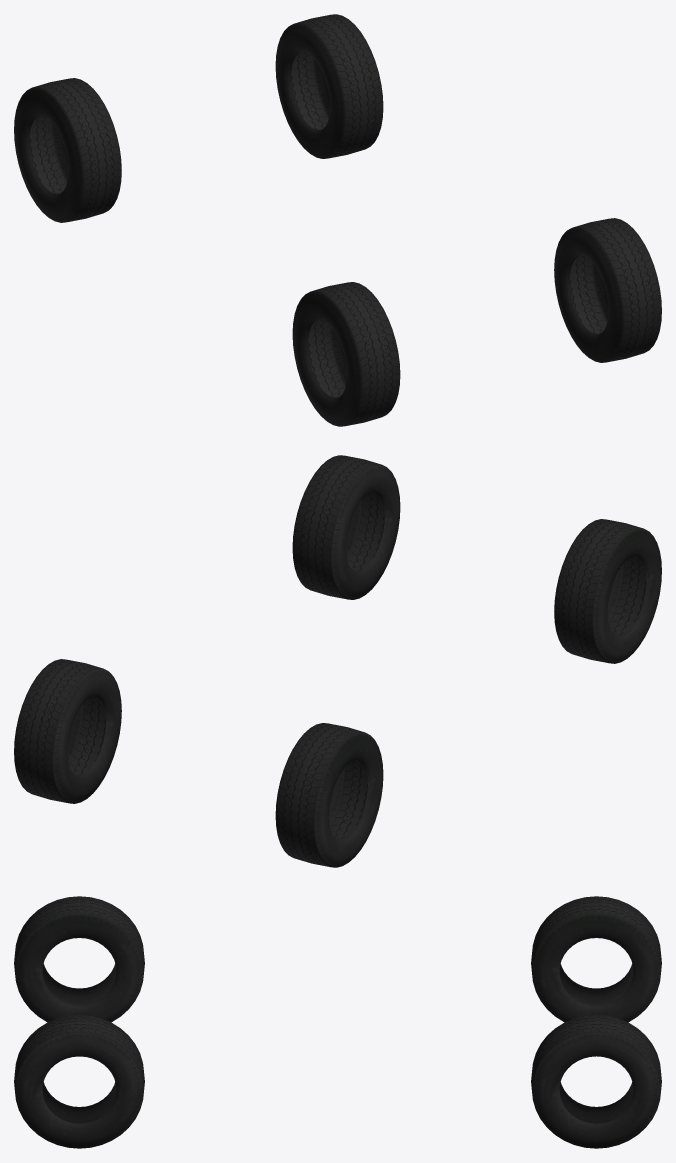
File: hummer-ev-2_Object_4.glb
The picture shows the model from 3 angles, top to bottom: view 1: azimuth 30°, elevation 25°; view 2: azimuth 150°, elevation 25°; view 3: azimuth 270°, elevation 25°; orthographic projection. The views are drawn at different scales.
Parts seen in each view (by area): view 1: Object_4; view 2: Object_4; view 3: Object_4.
Boxes of the visible parts, left/top/right/bottom form: Object_4: left=14, top=14, right=661, bottom=426; Object_4: left=14, top=455, right=661, bottom=867; Object_4: left=14, top=896, right=661, bottom=1148.
Size of the model in its own units: 2.2 by 0.8736 by 4.32.
1 material, 1 textured.
